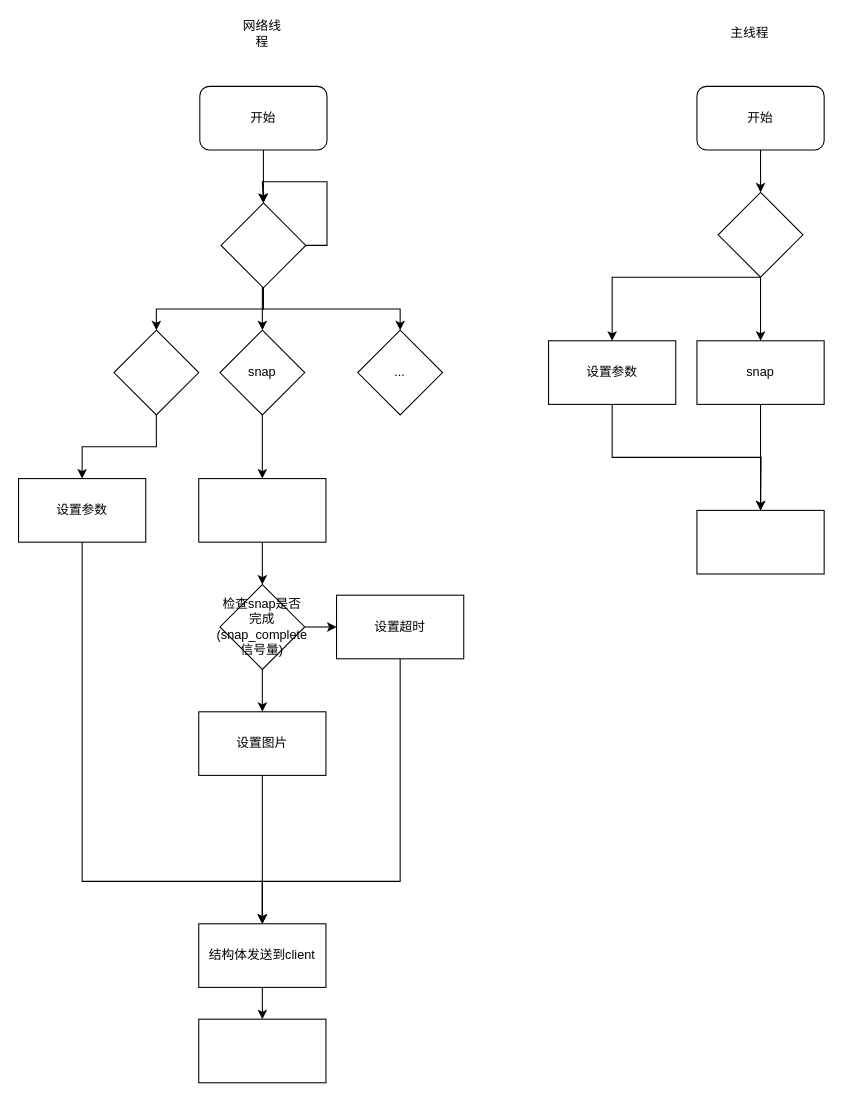
Image size: 843x1101. Some labels were removed from this diagram. The centre of each missing label's shape, as x and y in pixels:
"判断信号量" goes at (760,234).
"参数设置" goes at (156,372).
"发送snap信号（snap_com down）" goes at (262,510).
"接受到client结构体（所有参数组合）" goes at (263,245).
"返回判断信号量" goes at (760,541).
"返回接受" goes at (262,1050).
